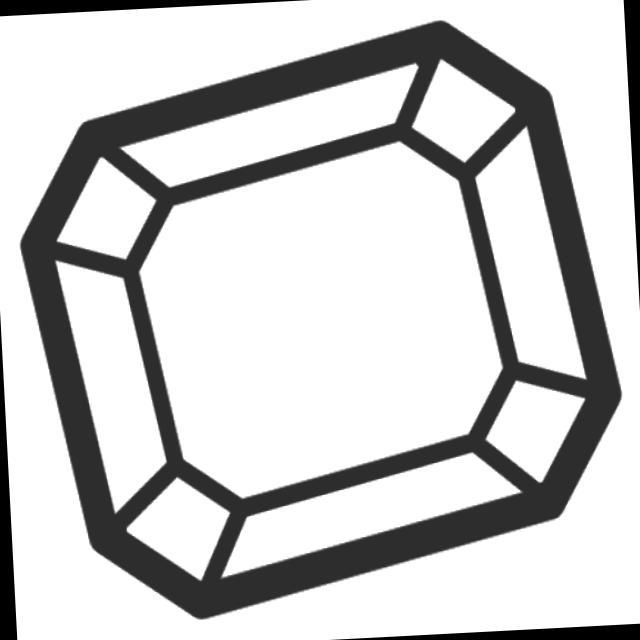emerald: (4, 2, 640, 635)
